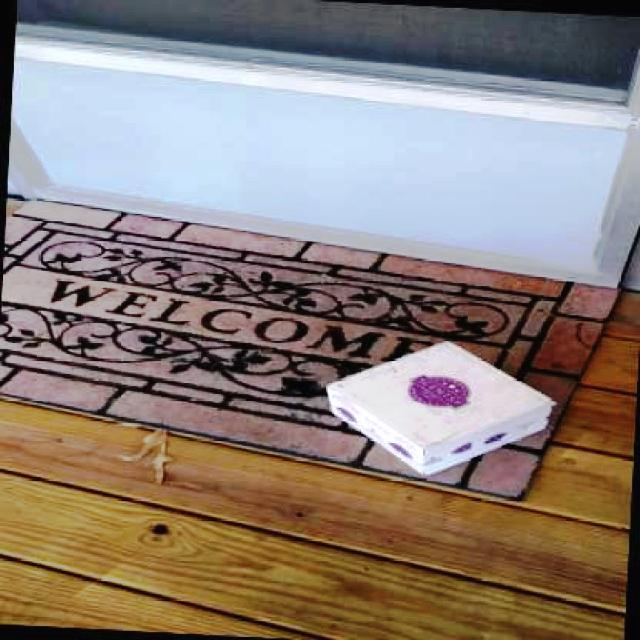Box: (322, 335, 556, 482)
